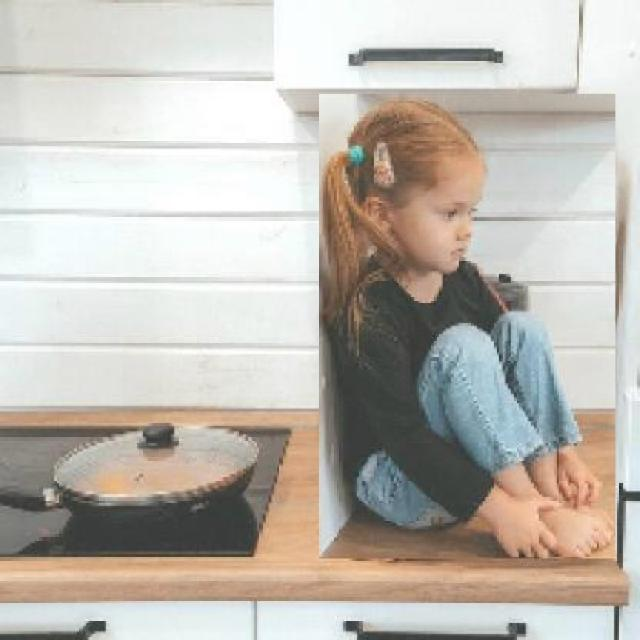child: (318, 94, 616, 560)
